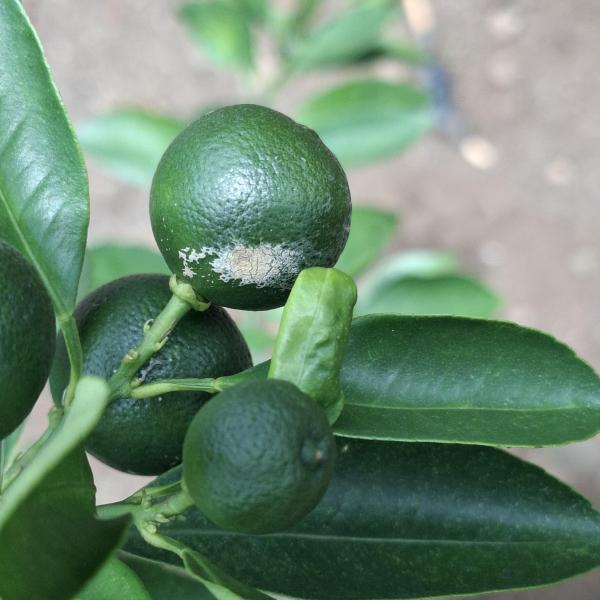Scab: (142, 100, 377, 328)
